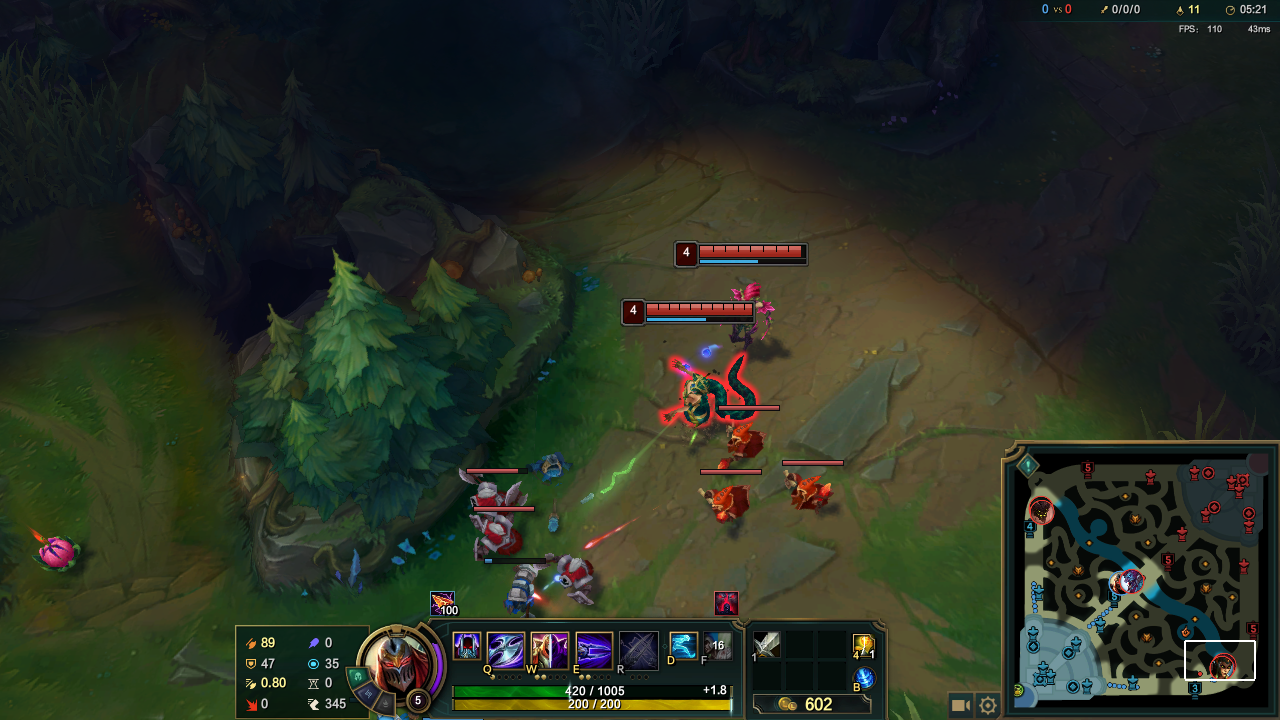DFYX: (642, 302, 755, 324), (698, 243, 804, 265)
